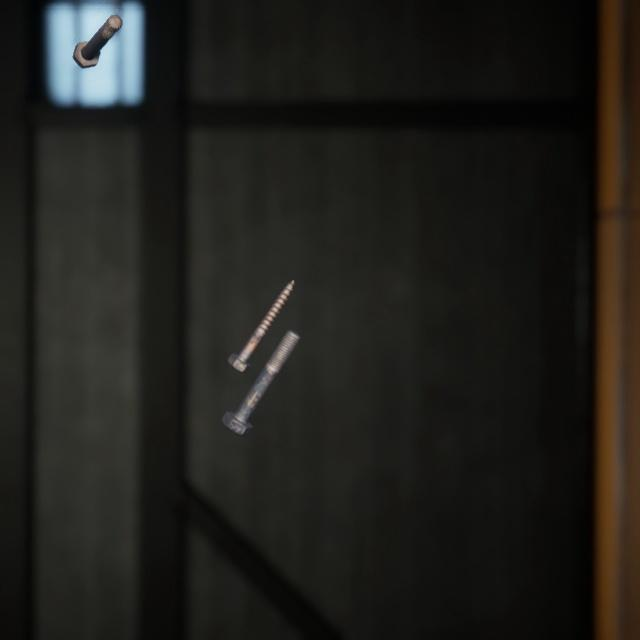bolt: (217, 305, 305, 421), (222, 256, 299, 359), (68, 1, 126, 64)
